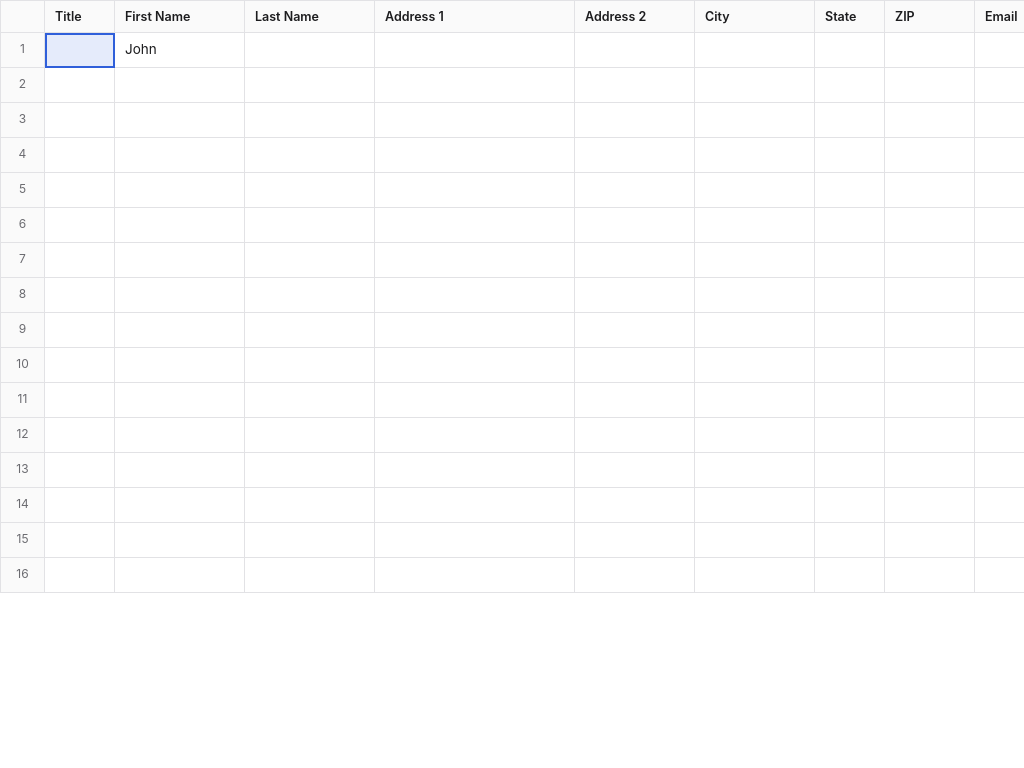
Test: selection vs. editing › Enter commits the edit and moves selection down
Double-click the cell "John" at (180, 50), box top-left (114, 32), bottom-right (244, 68)
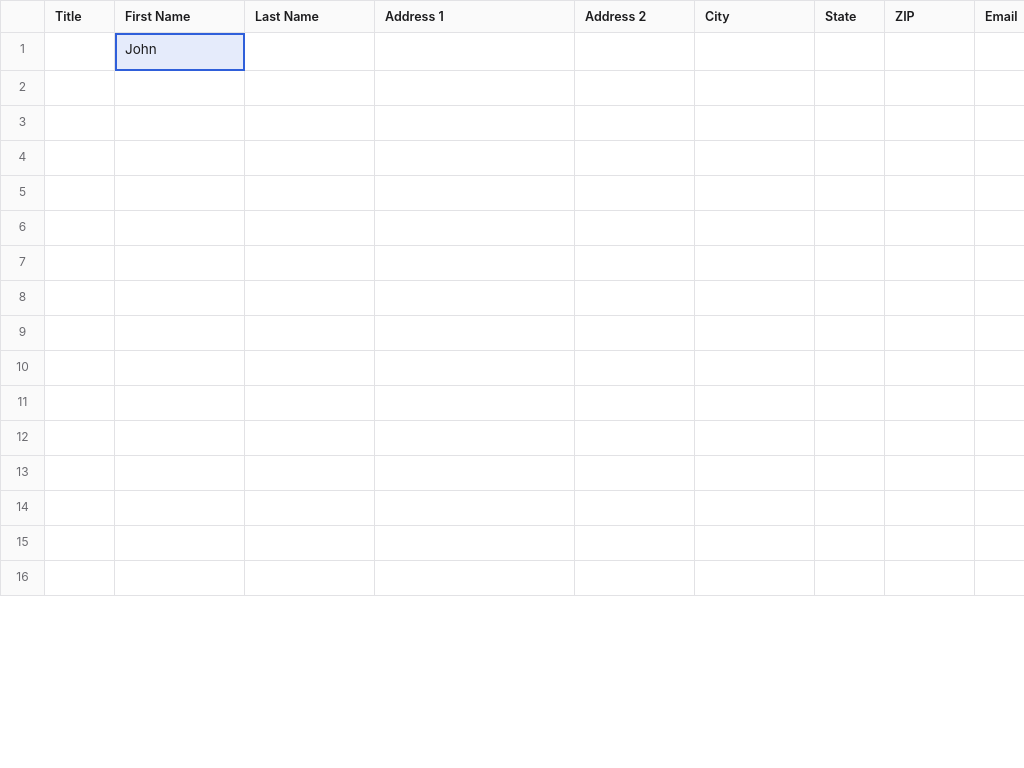
Replace the text in the text box with class "cell-editor" with "Updated" at (180, 50), box top-left (115, 33), bottom-right (244, 67)
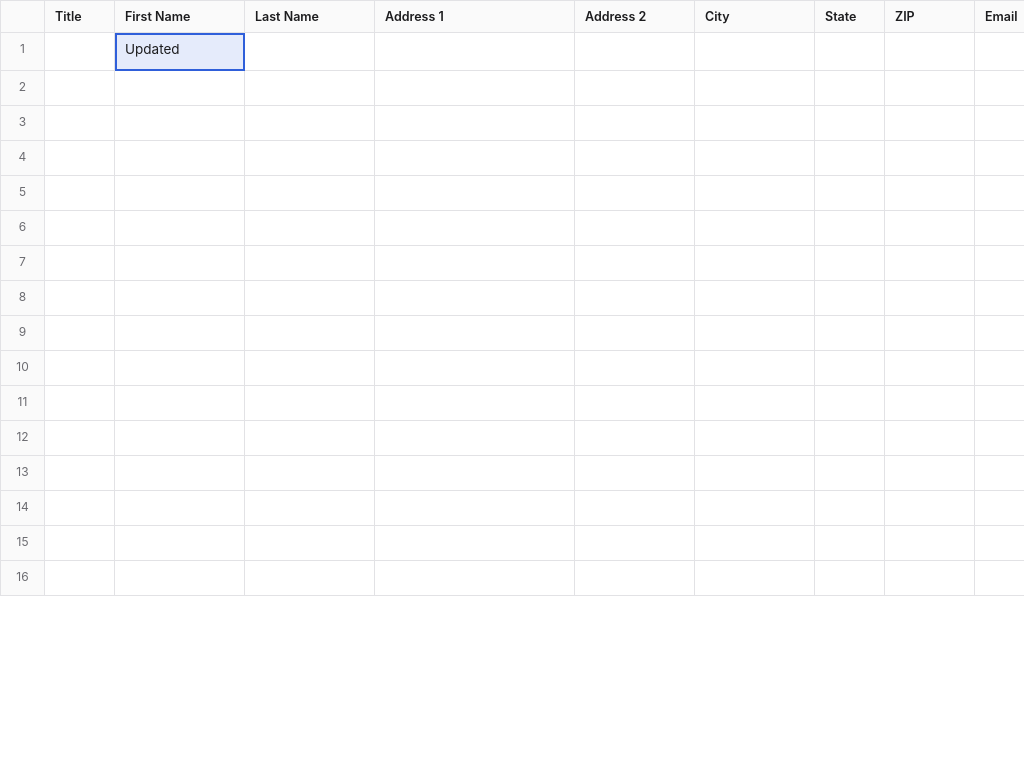
Press Enter in the text box with class "cell-editor", box top-left (115, 33), bottom-right (244, 67)
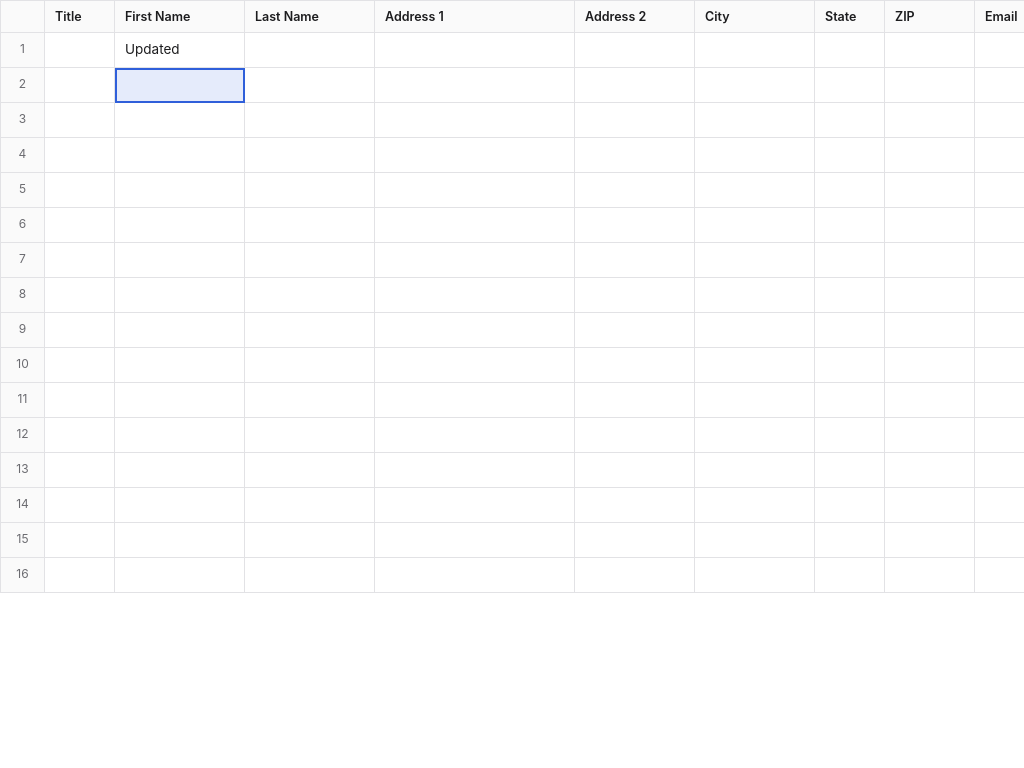
Expected: the text box with class "cell-editor" is gone
Expected: the text with class "cell-display" reads "Updated", top-left (125, 41), bottom-right (180, 57)
